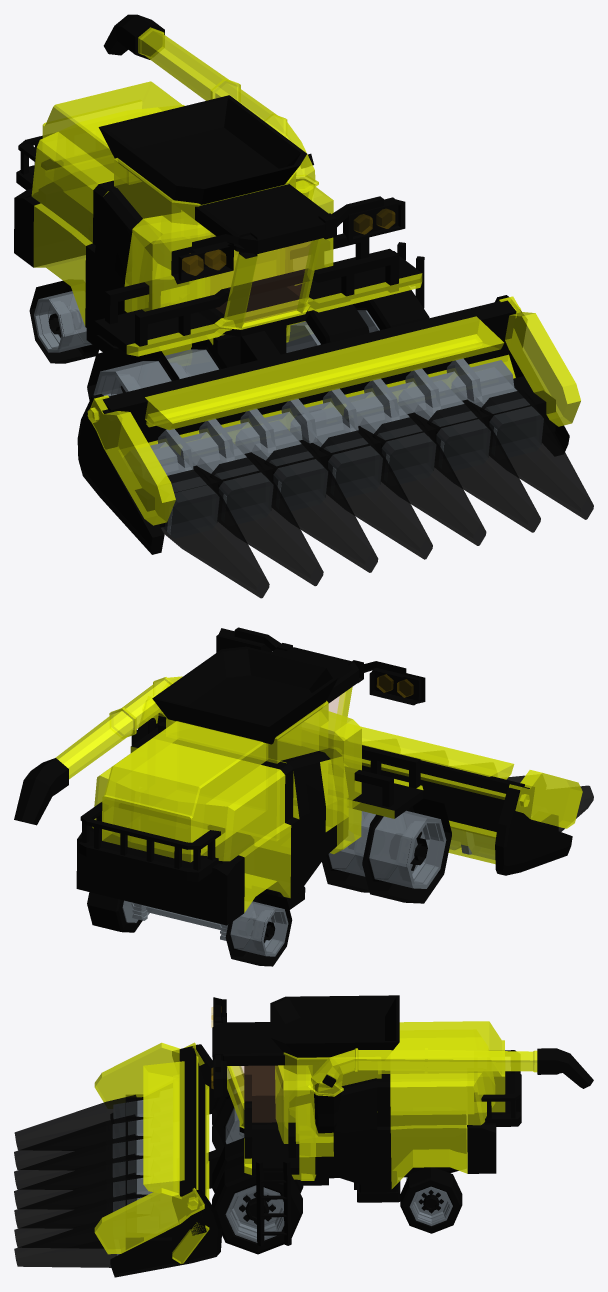
File: kamyon4.fbx
3 views of the same model, one above another, from view 1: azimuth 30°, elevation 25°; view 2: azimuth 150°, elevation 25°; view 3: azimuth 270°, elevation 25° (orthographic). The views are drawn at different scales.
Parts seen in each view (by area): view 1: Cube.153, bıcak, arkateker2, onteker2, onteker1; view 2: Cube.153, onteker2, arkateker2, bıcak; view 3: Cube.153, bıcak, onteker1.
Boxes of the visible parts, <box> form: Cube.153: <box>14,14,580,554</box>; bıcak: <box>161,389,593,598</box>; arkateker2: <box>29,280,98,363</box>; onteker2: <box>87,348,179,400</box>; onteker1: <box>353,290,429,332</box>; Cube.153: <box>14,627,582,940</box>; onteker2: <box>362,798,451,903</box>; arkateker2: <box>225,892,292,966</box>; bıcak: <box>506,775,593,831</box>; Cube.153: <box>94,995,593,1277</box>; bıcak: <box>14,1094,137,1267</box>; onteker1: <box>212,1163,302,1254</box>.
Size of the model in its own units: 365 by 211 by 584.
